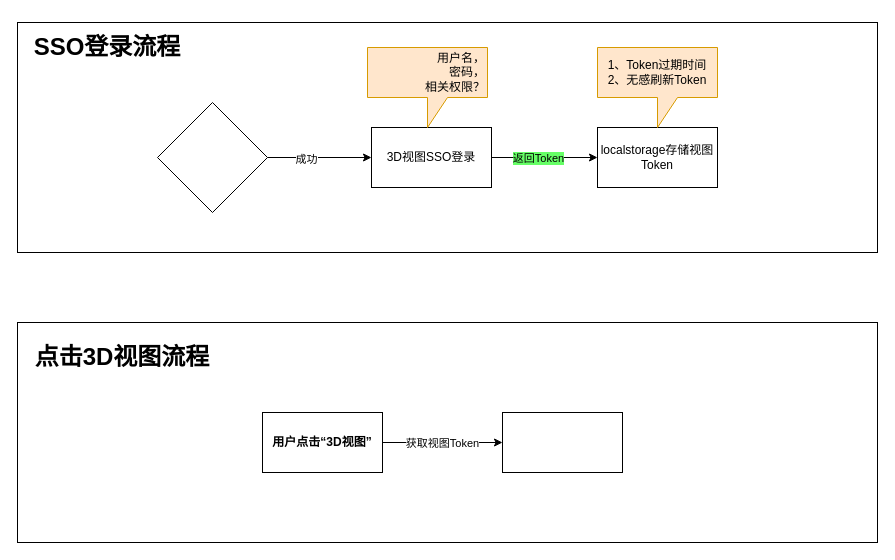
Image size: 895x560. Some labels were removed from this diagram. Each missing label, with the centre of its shape:
"携带Token请求视图URL" goes at pixel 562 442.
"数字精灵登录" goes at pixel 212 157.
